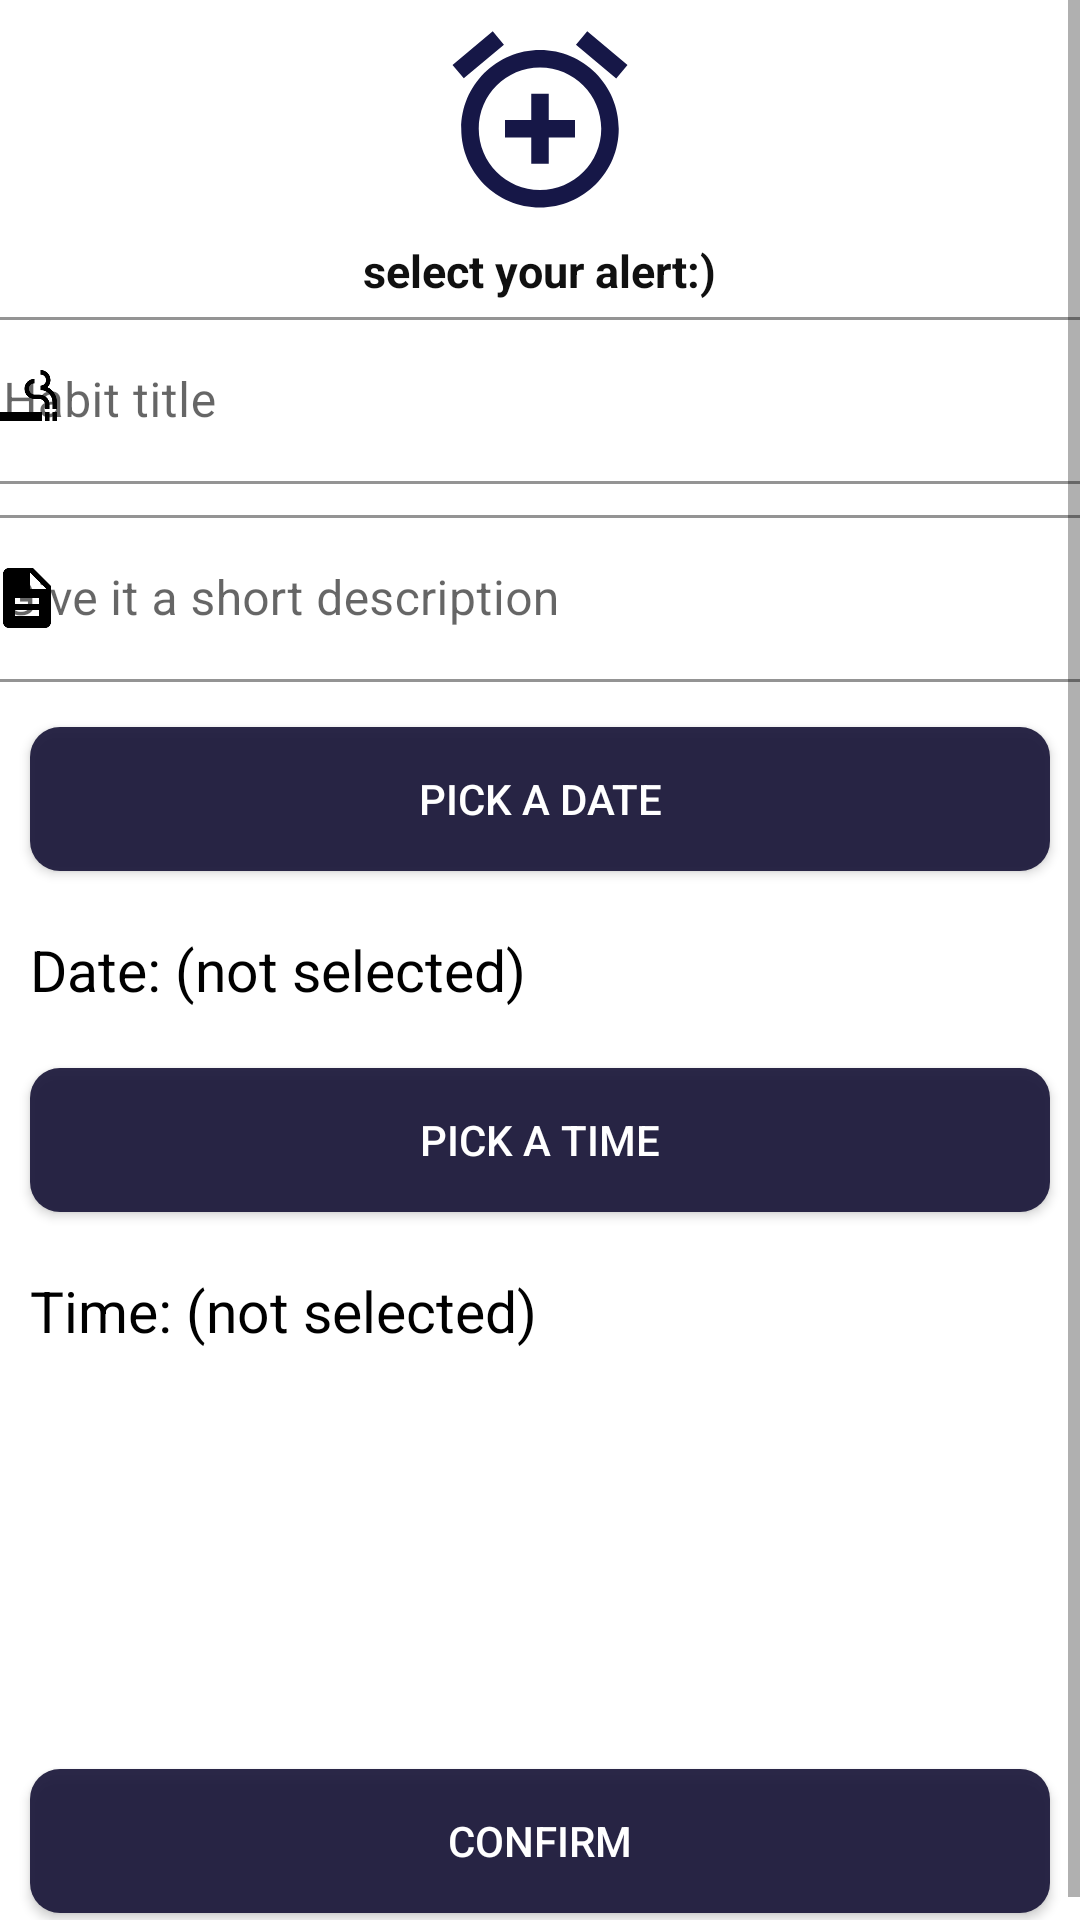

Icons on this 1080w x 1920h Android screen, each with its box as bbox(x1, y1, x2, y2):
alarm add: bbox(452, 31, 628, 208)
